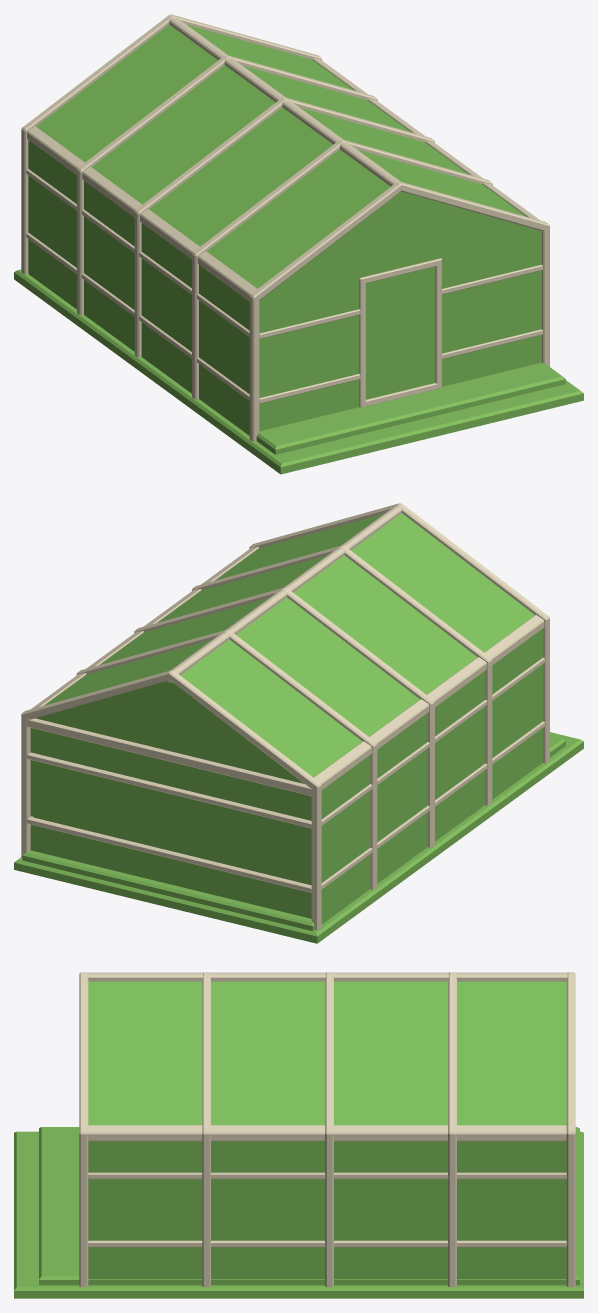
The model's file is greenhouse_a02.gltf.
3 views of the same model, one above another, from view 1: azimuth 30°, elevation 25°; view 2: azimuth 150°, elevation 25°; view 3: azimuth 270°, elevation 25° (orthographic). The views are drawn at different scales.
Visible parts, largest first — view 1: greenhouse_a02_001; view 2: greenhouse_a02_001; view 3: greenhouse_a02_001.
Boxes of the visible parts, x1,y1,x2,y2 form: greenhouse_a02_001: (14,14,583,474); greenhouse_a02_001: (14,503,583,943); greenhouse_a02_001: (14,972,583,1298).
Bounding box in the file's own units: 4.18 × 3.04 × 6.36.
Materials: 1 (1 with a texture image).
